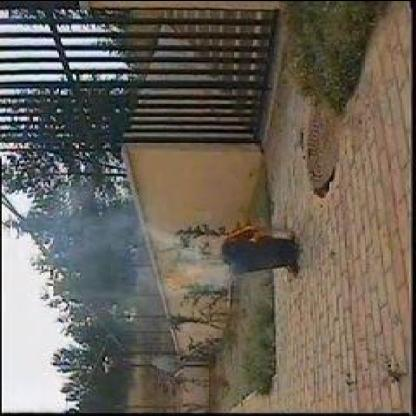-: (76, 245, 148, 278)
